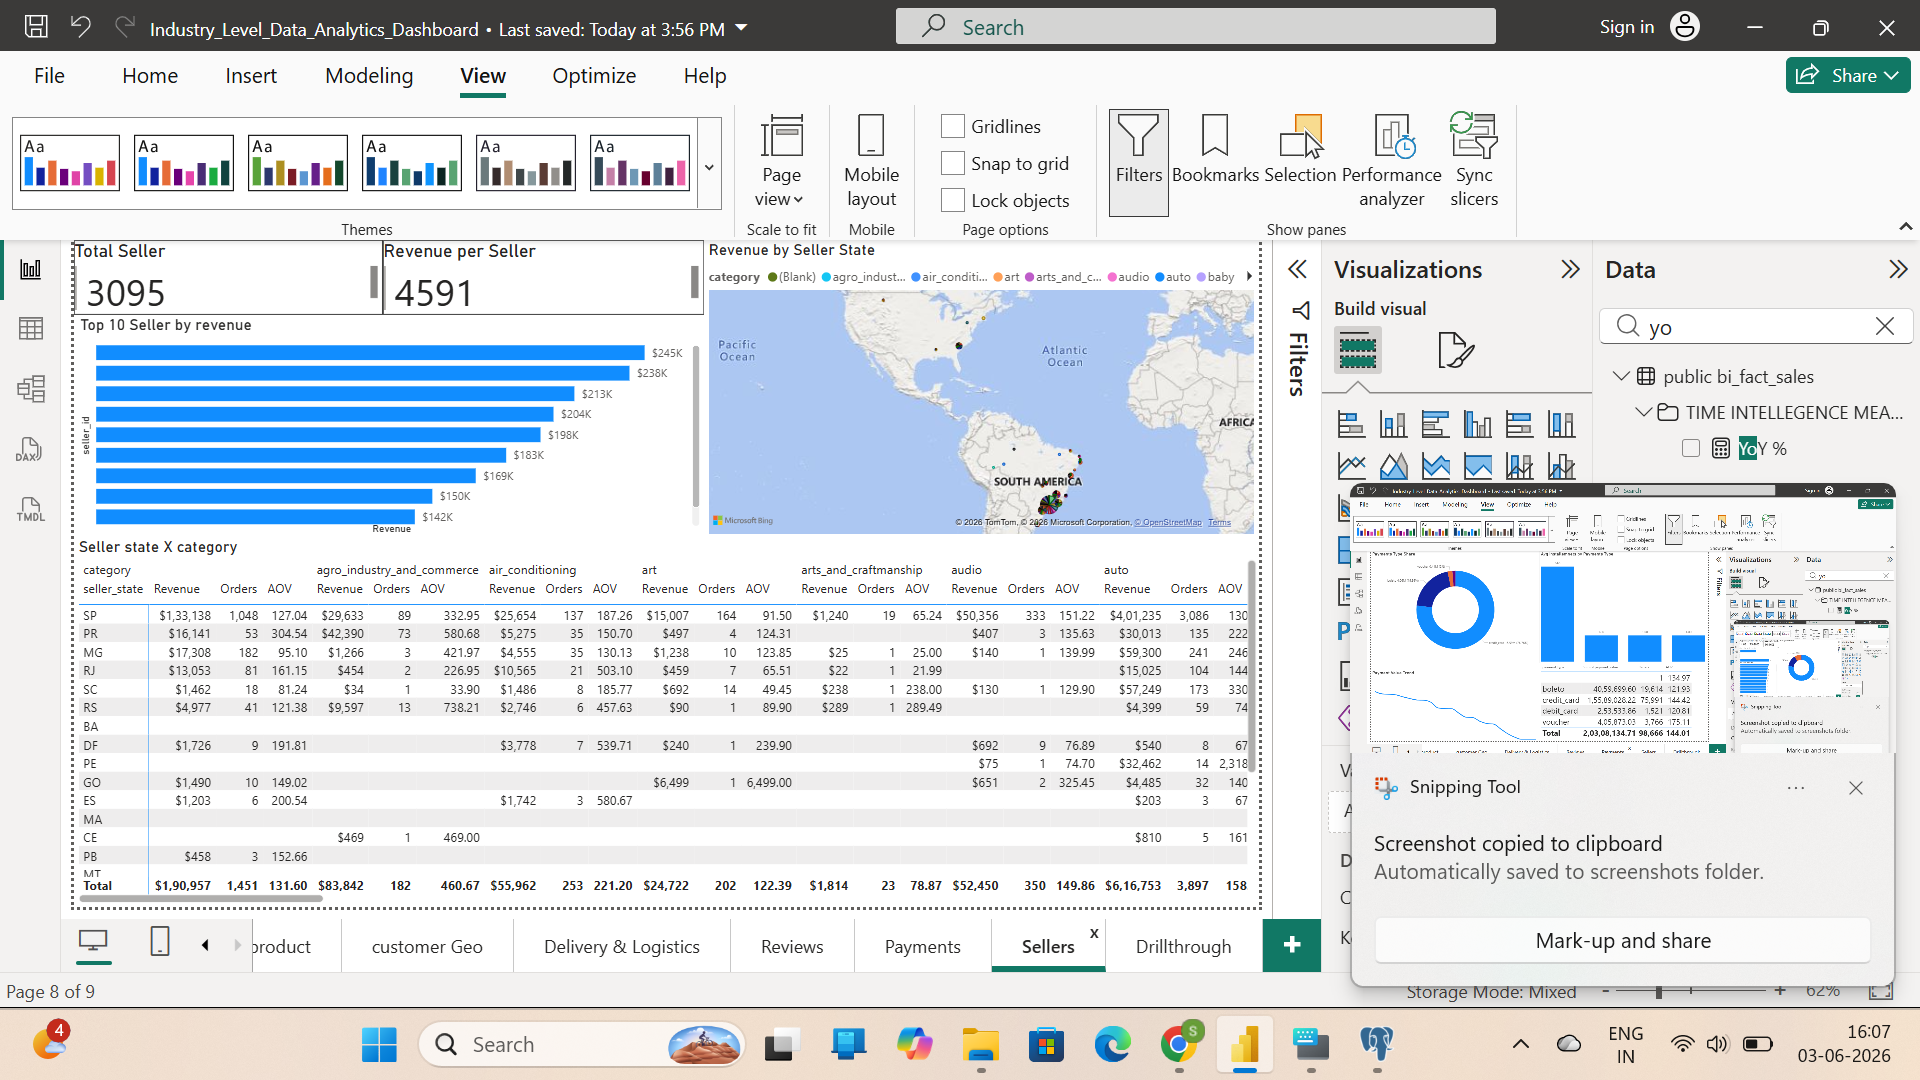

What the dashboard file says about the page in this screenshot:
{"tool":"powerbi","page":{"name":"Sellers","canvas":[1280,720],"ordinal":7},"visuals":[{"type":"multiRowCard","title":"Total Seller ","fields":{"Values":["public bi_fact_sales.Sellers"]},"box":[0,0,333.6,81],"z":0},{"type":"multiRowCard","title":"Revenue per Seller","fields":{"Values":["public bi_fact_sales.Revenue per Seller"]},"box":[333.6,0,346.5,81],"z":1000},{"type":"barChart","title":"Top 10 Seller by revenue","fields":{"Category":["public bi_fact_sales.seller_id"],"Y":["public bi_fact_sales.Revenue"]},"box":[1.6,81,678.5,241.3],"z":2000},{"type":"map","title":"Revenue by Seller State ","fields":{"Series":["public bi_fact_sales.category"],"Size":["public bi_fact_sales.Revenue"],"Category":["public bi_fact_sales.seller_state"]},"box":[680.1,0,599.1,322.2],"z":3000},{"type":"pivotTable","title":"Seller state X category ","fields":{"Values":["public bi_fact_sales.Revenue","public bi_fact_sales.Orders","public bi_fact_sales.AOV"],"Columns":["public bi_fact_sales.category"],"Rows":["public bi_fact_sales.seller_state"]},"box":[0,320.6,1280.8,399.9],"z":4000}]}

Visuals, with their boxes on the page's 1280x720 design canvas (x1, y1, x2, y2). These are canvas units, not pixel positions in the 1920x1080 screenshot, which may show the page scaled, cropped or inside an application window:
"Total Seller " multiRowCard: Rect(0, 0, 334, 81)
"Revenue per Seller" multiRowCard: Rect(334, 0, 680, 81)
"Top 10 Seller by revenue" barChart: Rect(2, 81, 680, 322)
"Revenue by Seller State " map: Rect(680, 0, 1279, 322)
"Seller state X category " pivotTable: Rect(0, 321, 1281, 720)
